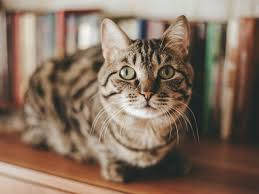Gato: (54, 12, 217, 165)
